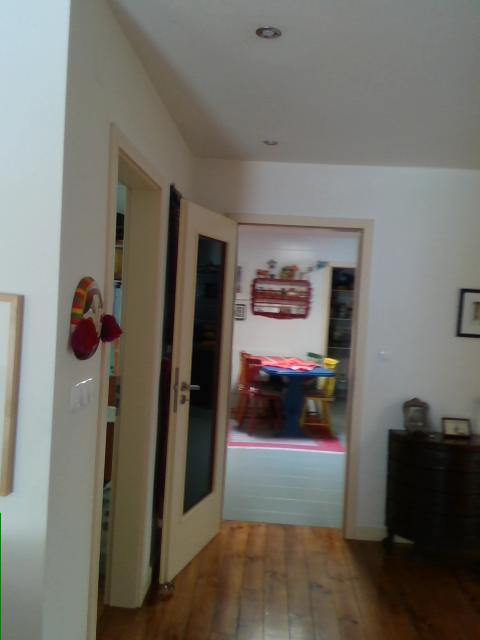door: (156, 196, 238, 585)
